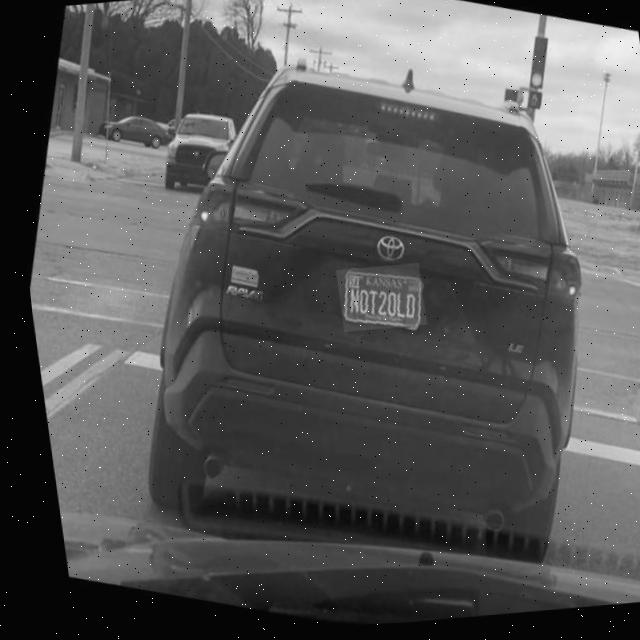LicensePlate: (335, 272, 414, 329)
